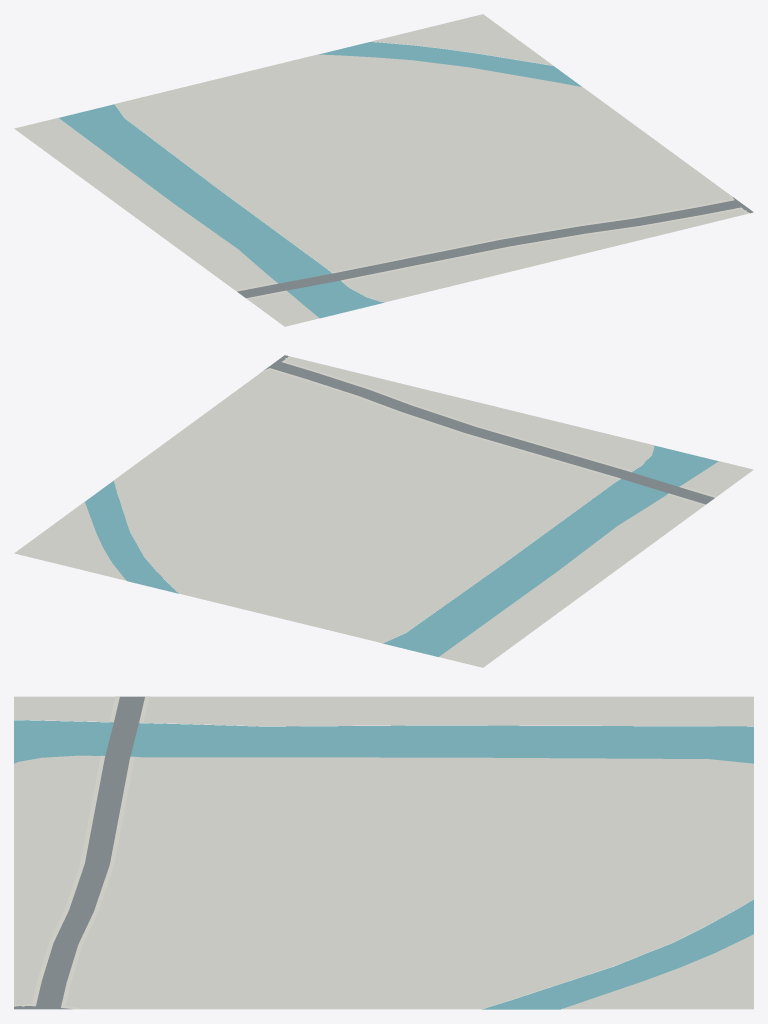
The picture shows the model from 3 angles, top to bottom: view 1: azimuth 30°, elevation 25°; view 2: azimuth 150°, elevation 25°; view 3: azimuth 270°, elevation 25°; orthographic projection. The views are drawn at different scales.
Parts seen in each view (by area): view 1: city; view 2: city; view 3: city.
Part boxes in pixels (x1,y1,x2,y2): city: (14, 14, 753, 326); city: (14, 355, 753, 667); city: (14, 696, 753, 1009).
Bounding box in the file's own units: 500 × 0.4 × 500.
